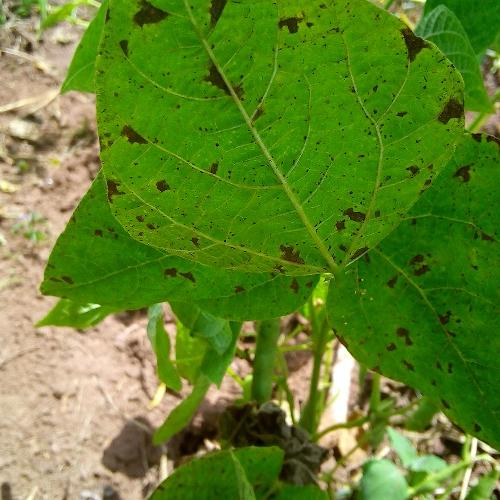hawar: (94, 0, 464, 282)
